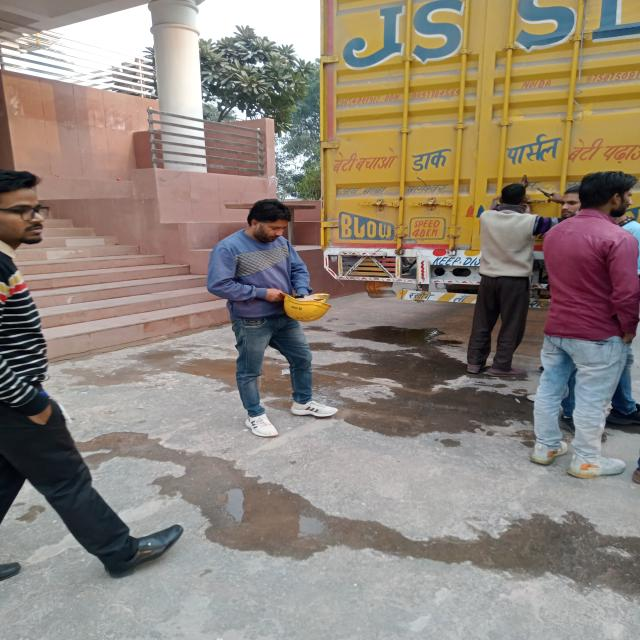unsafe: (0, 168, 181, 588), (532, 171, 640, 475), (206, 198, 343, 437), (466, 180, 540, 377)
